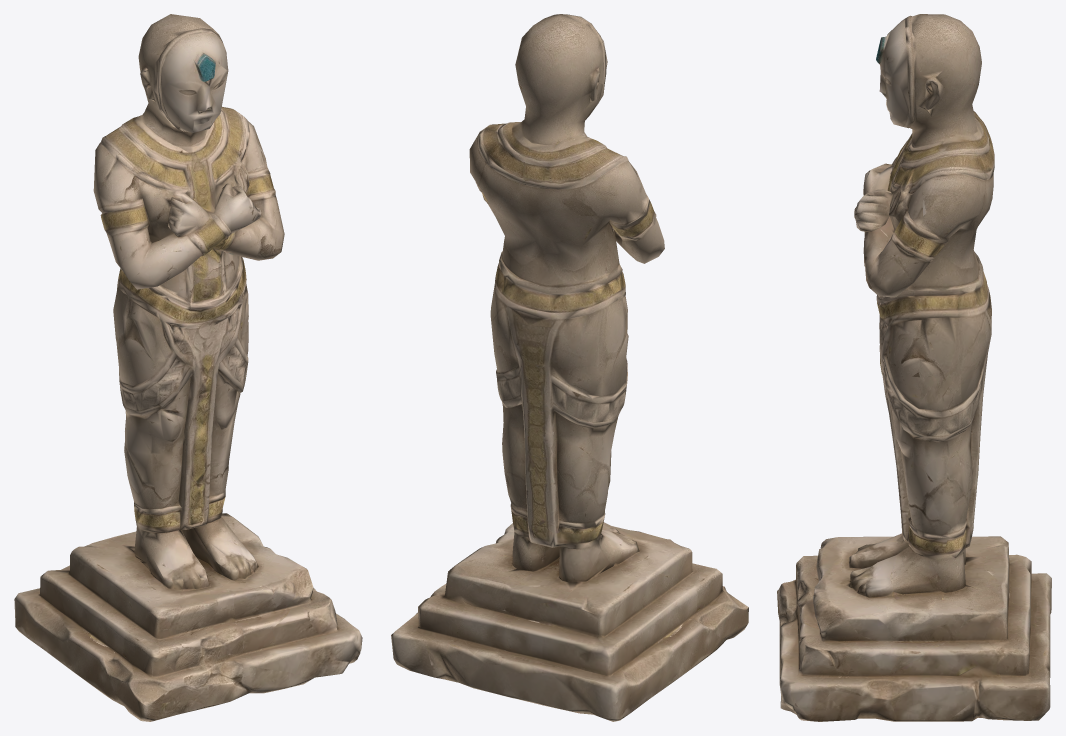
Rendered from idole.glb.
3 views of the same model, side by side, from view 1: azimuth 30°, elevation 25°; view 2: azimuth 150°, elevation 25°; view 3: azimuth 270°, elevation 25° (orthographic). The views are drawn at different scales.
Bounding box in the file's own units: 0.7225 × 1.9 × 0.7316.
Materials: 1 (1 with a texture image).
